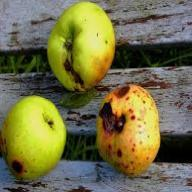apple: (94, 84, 162, 175), (44, 2, 115, 86), (1, 95, 66, 179)
